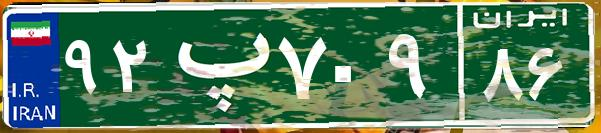0: (330, 28, 385, 110)
2: (110, 28, 158, 105)
6: (525, 38, 570, 115)
7: (273, 28, 330, 110)
8: (475, 38, 525, 113)
9: (385, 28, 445, 110), (57, 26, 110, 107)
پ: (158, 15, 273, 115)
